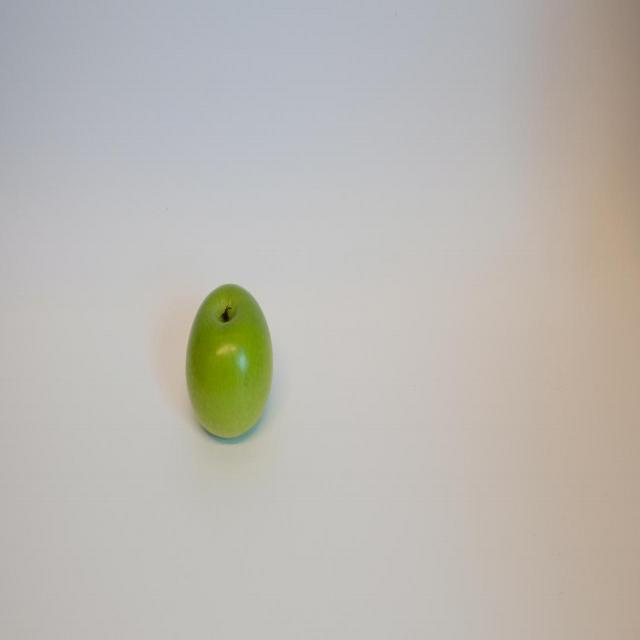apple: (185, 281, 274, 441)
